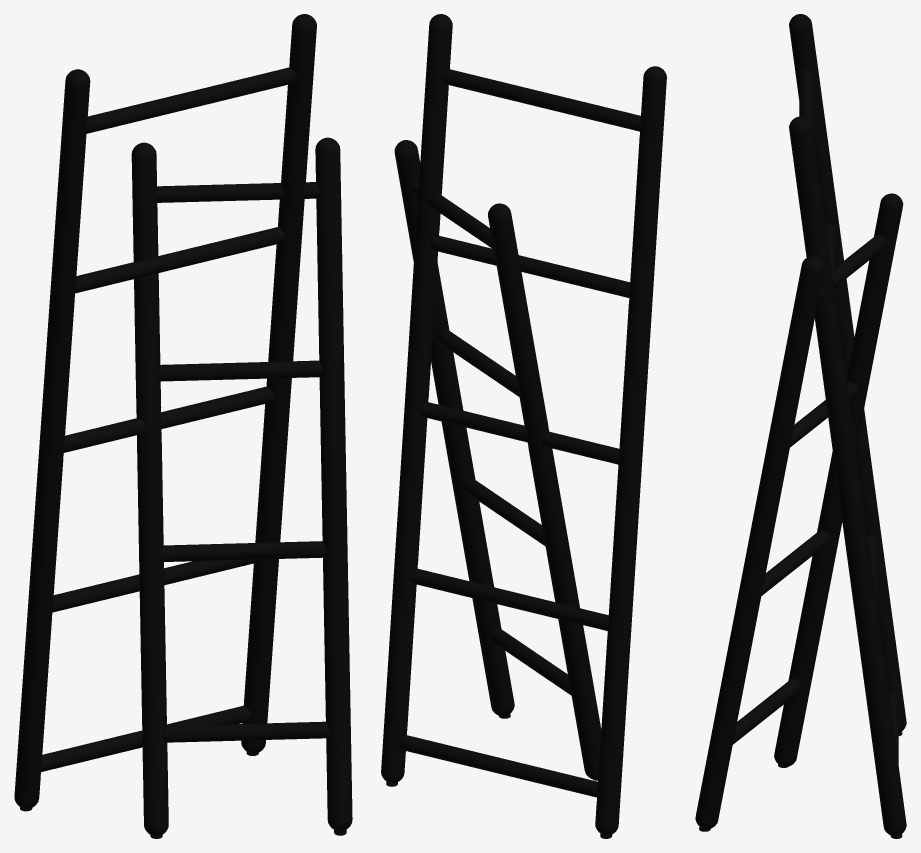
Rendered from ligneroset_ladder.gltf.
3 views of the same model, side by side, from view 1: azimuth 30°, elevation 25°; view 2: azimuth 150°, elevation 25°; view 3: azimuth 270°, elevation 25° (orthographic). The views are drawn at different scales.
Visible parts, largest first — view 1: Mesh; view 2: Mesh; view 3: Mesh.
Part boxes in pixels (box(x1,y1,x2,y2)): Mesh: box(14, 14, 352, 838); Mesh: box(381, 14, 666, 838); Mesh: box(695, 14, 906, 838).
Size of the model in its own units: 0.465 by 1.24 by 0.33.
Materials: 1 (1 with a texture image).
